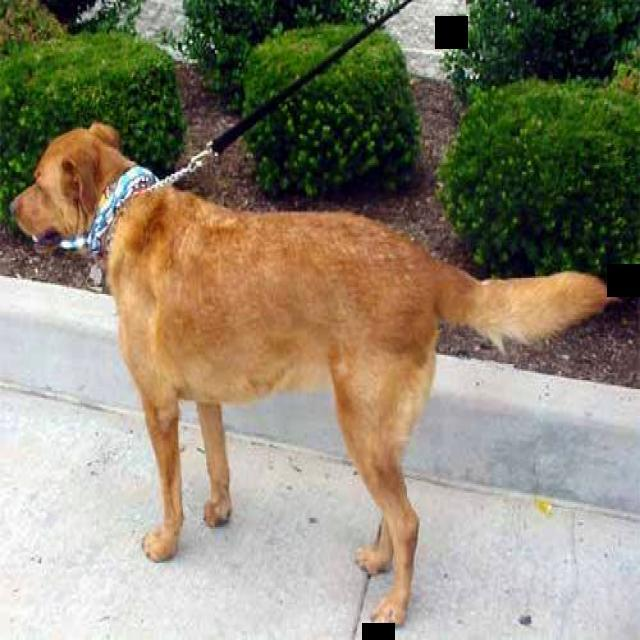adult_dog: (9, 121, 617, 626)
